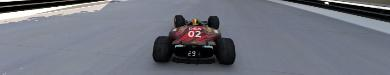Car: (151, 14, 235, 64)
